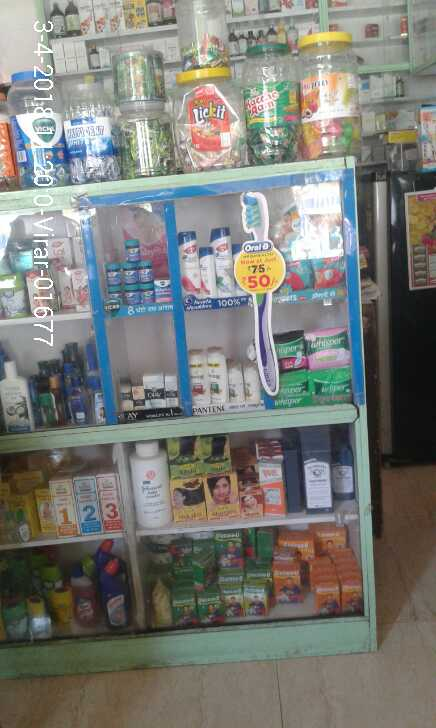vicks: (103, 234, 173, 303)
